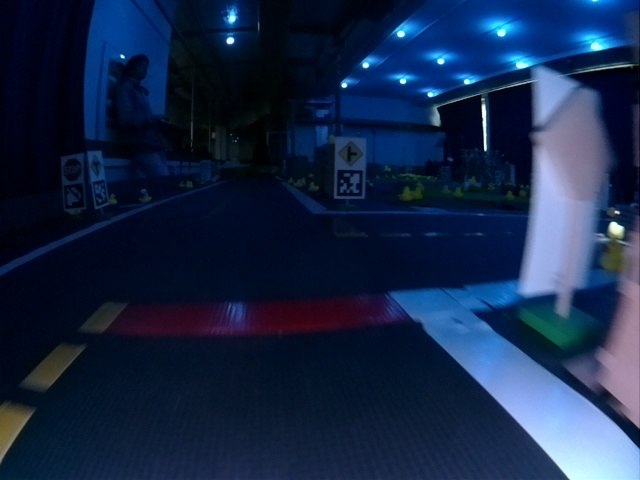Duckie: (598, 242, 624, 270), (138, 188, 152, 198), (400, 188, 412, 198), (107, 193, 117, 202), (413, 188, 422, 197), (309, 181, 318, 190), (294, 179, 302, 187), (456, 189, 463, 197)
Intersection sign: (336, 139, 364, 166), (88, 150, 105, 177)
QR code: (336, 168, 364, 198), (93, 181, 108, 207), (66, 189, 85, 209)
